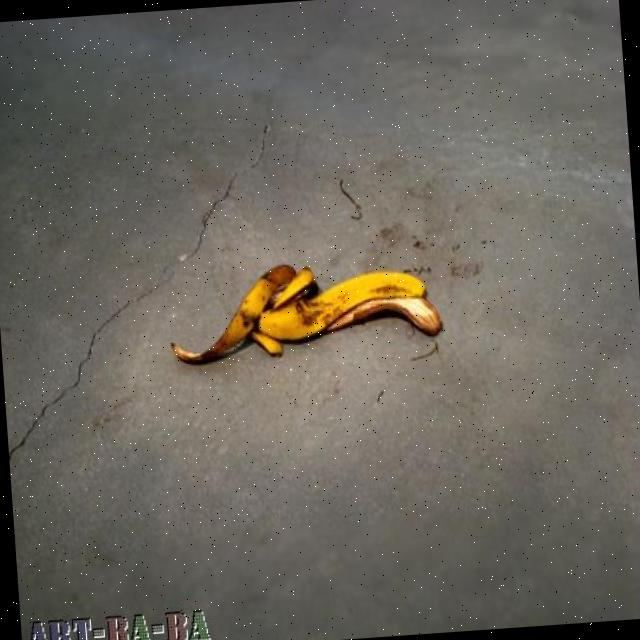banana-peel: (164, 250, 443, 368)
